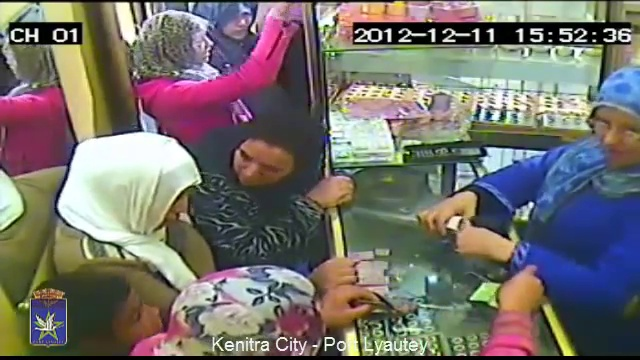face: (94, 287, 165, 335), (229, 138, 292, 192), (592, 106, 640, 166), (220, 9, 253, 39)
